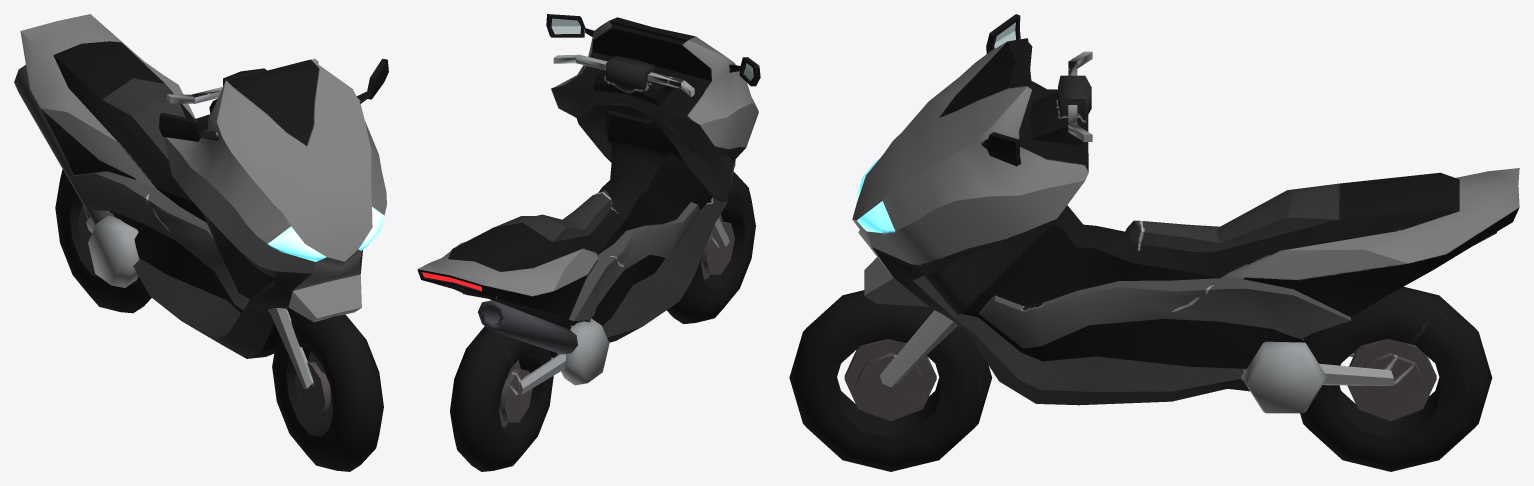
Rendered from Tmax_solo.fbx.
3 renders of one model, left to right at view 1: azimuth 30°, elevation 25°; view 2: azimuth 150°, elevation 25°; view 3: azimuth 270°, elevation 25°, orthographic. The views are drawn at different scales.
Visible parts, largest first — view 1: Tmax_1solo; view 2: Tmax_1solo; view 3: Tmax_1solo.
Boxes of the visible parts, <box> form: Tmax_1solo: <box>14,14,388,471</box>; Tmax_1solo: <box>417,14,760,471</box>; Tmax_1solo: <box>789,14,1519,471</box>.
Bounding box in the file's own units: 123 × 181 × 293.
